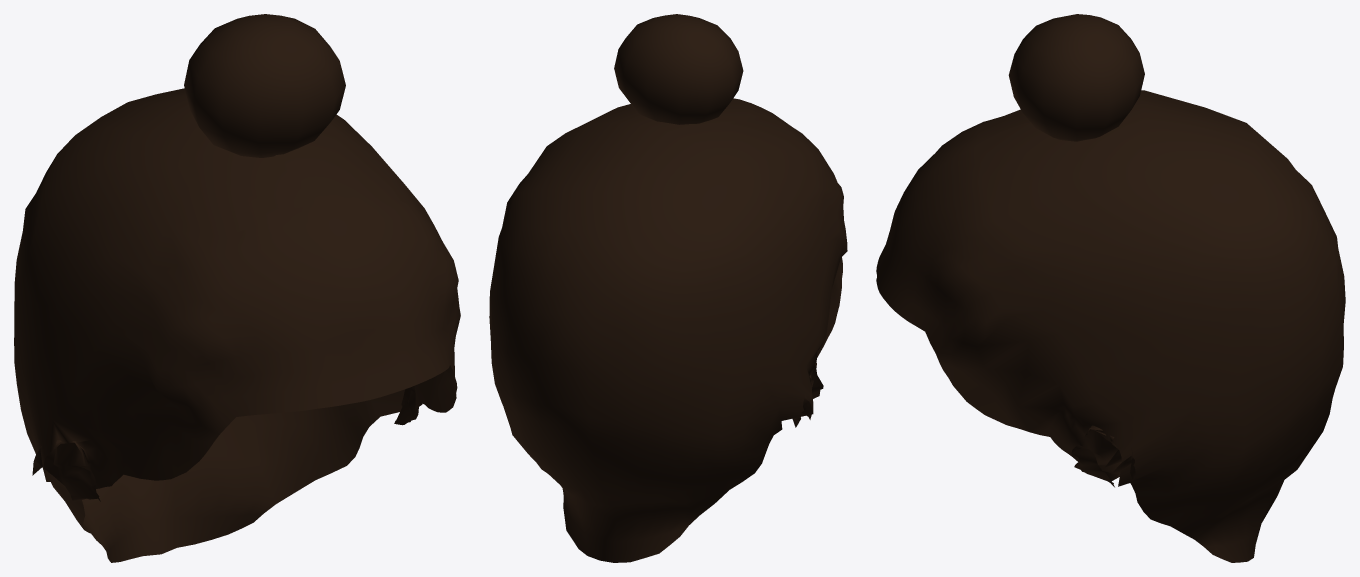
File: hair_top_knot.glb
3 views of the same model, side by side, from view 1: azimuth 30°, elevation 25°; view 2: azimuth 150°, elevation 25°; view 3: azimuth 270°, elevation 25° (orthographic). The views are drawn at different scales.
Parts seen in each view (by area): view 1: hair_top_knot; view 2: hair_top_knot; view 3: hair_top_knot.
Part boxes in pixels (x1,y1,x2,y2): hair_top_knot: (14,14,460,562); hair_top_knot: (489,14,847,562); hair_top_knot: (876,14,1345,562).
Size of the model in its own units: 0.1862 by 0.2773 by 0.2218.
